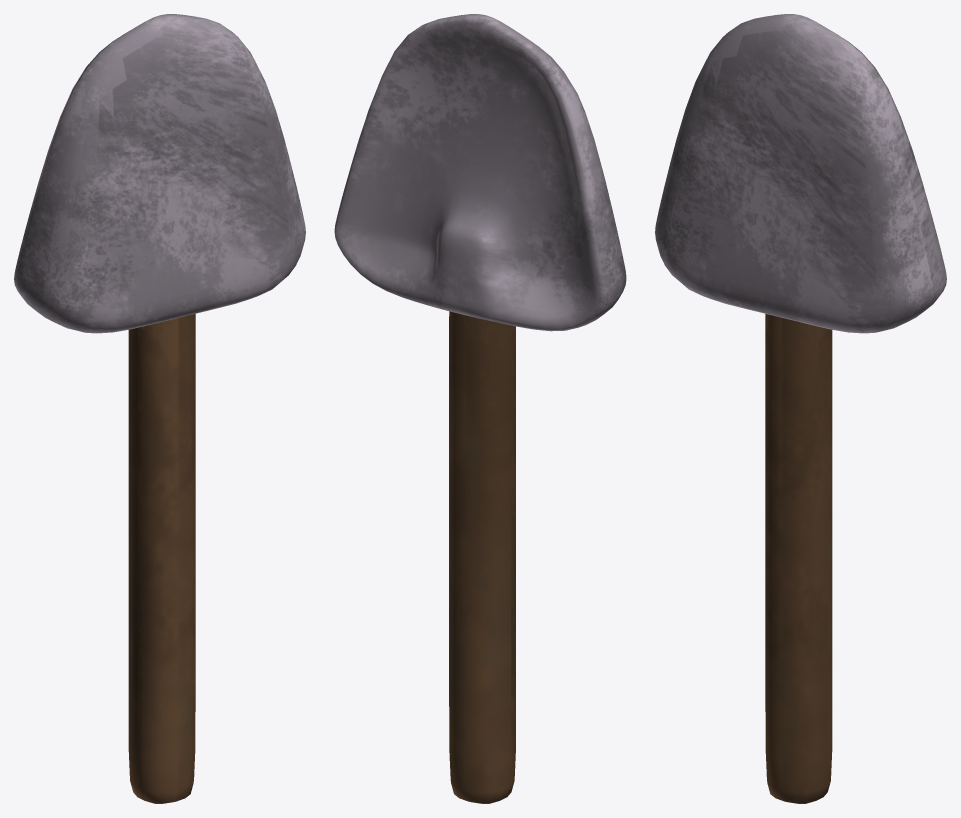
The model's file is shovel.fbx.
3 views of the same model, side by side, from view 1: azimuth 30°, elevation 25°; view 2: azimuth 150°, elevation 25°; view 3: azimuth 330°, elevation 25° (orthographic).
Visible parts, largest first — view 1: shovel; view 2: shovel; view 3: shovel.
Part boxes in pixels (<box>): shovel: <box>14,14,305,803</box>; shovel: <box>334,14,626,803</box>; shovel: <box>655,14,946,803</box>.
Bounding box in the file's own units: 75.28 × 204 × 25.54.
1 material, 1 textured.
